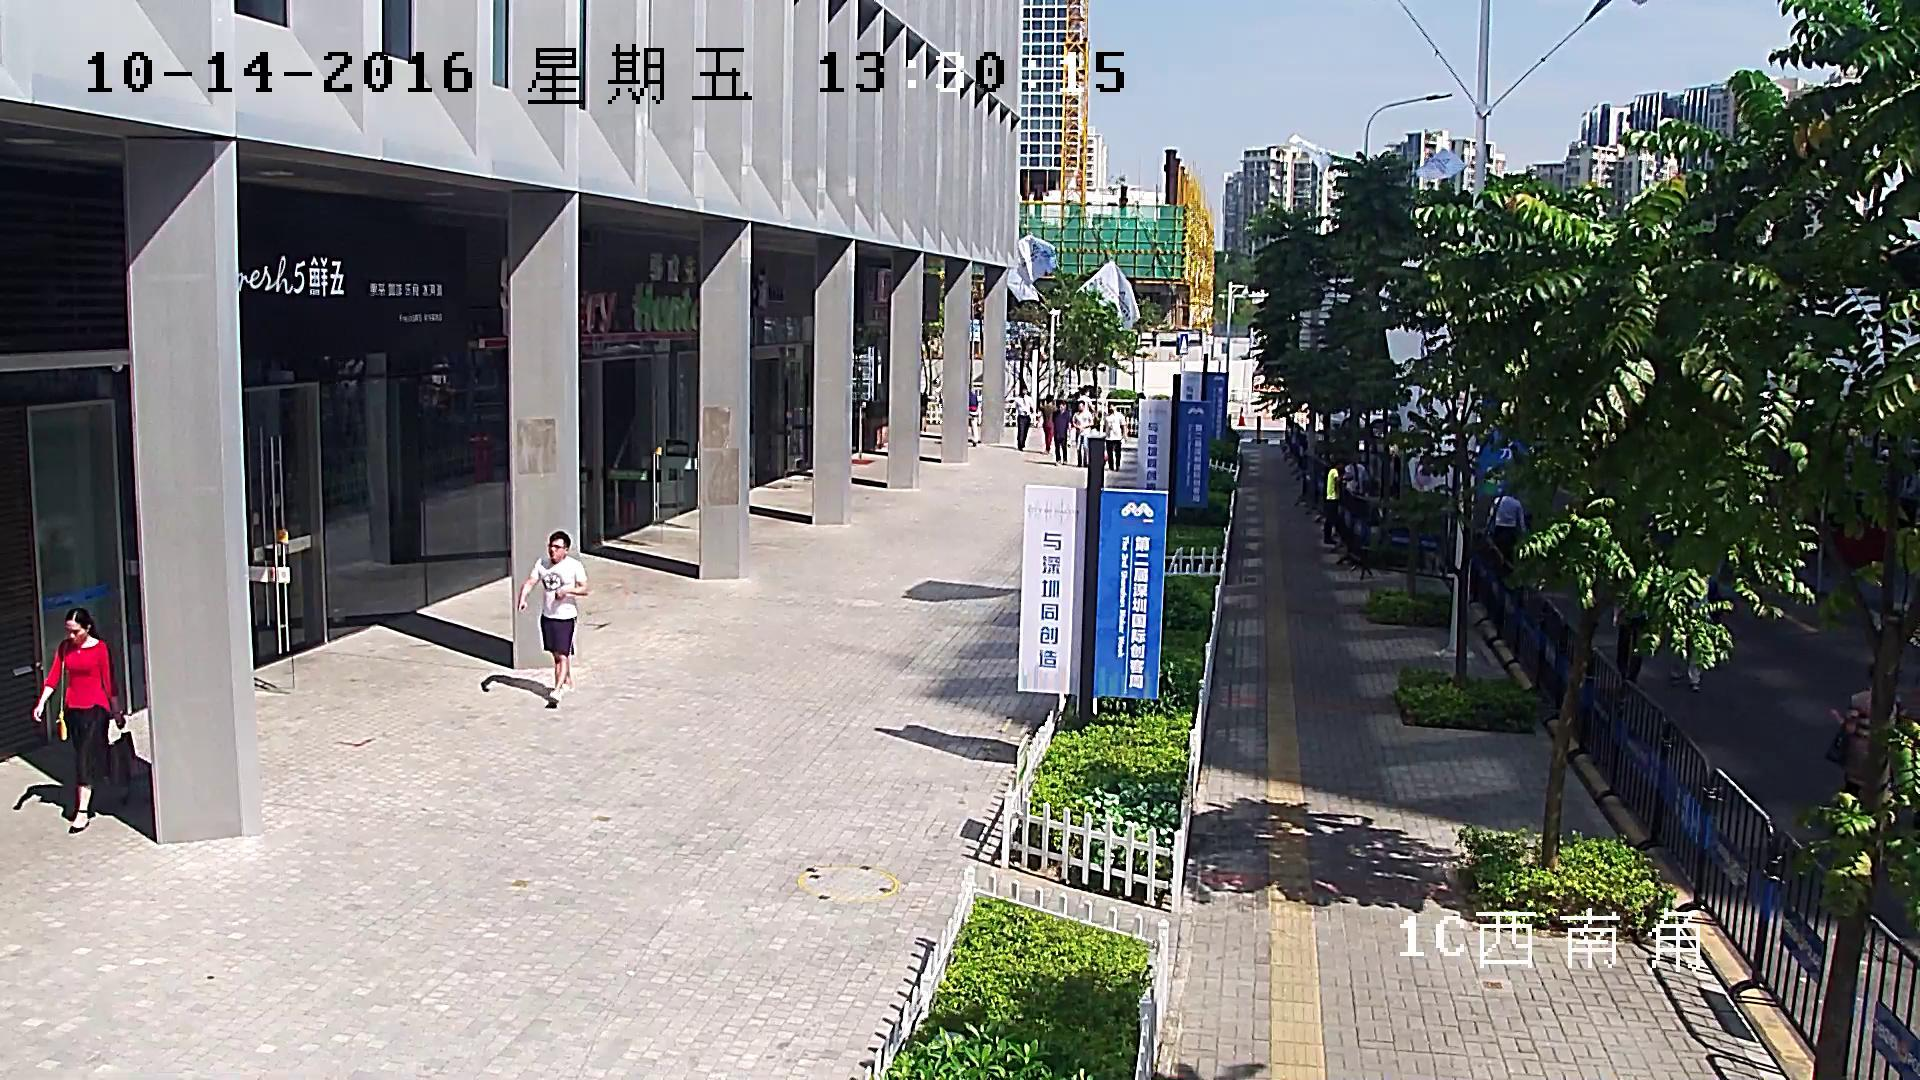person: (30, 606, 126, 835), (514, 529, 589, 705), (1827, 662, 1912, 802), (1611, 578, 1656, 688), (1481, 490, 1527, 566), (1007, 385, 1036, 451), (1322, 458, 1343, 546), (1103, 403, 1128, 472), (1071, 401, 1094, 468), (1050, 399, 1070, 467), (1039, 394, 1059, 454), (1344, 460, 1372, 498), (967, 384, 979, 447), (1075, 388, 1096, 419), (919, 387, 928, 432)
